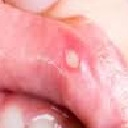Cold Sore: (63, 47, 85, 72)
